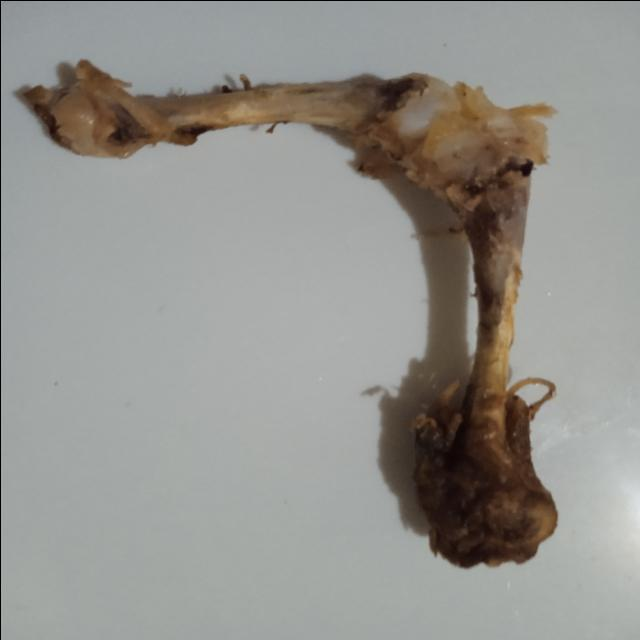bone: (0, 47, 589, 581)
